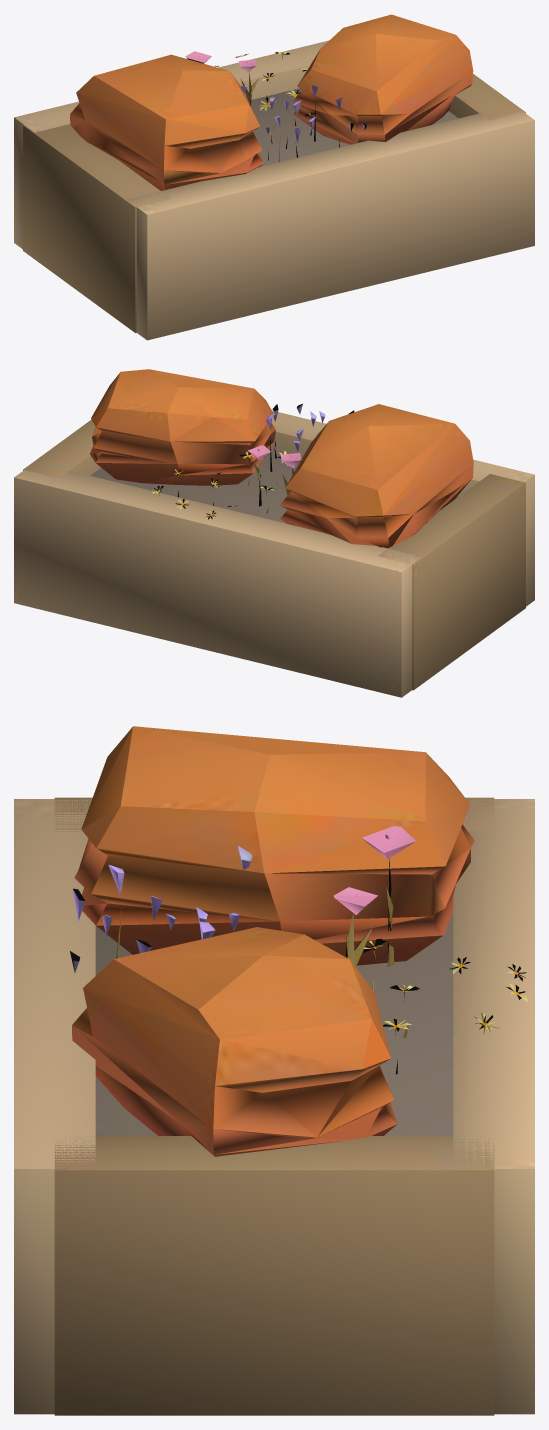
The model's file is plaza_planter_filled_low.glb.
The picture shows the model from 3 angles, top to bottom: view 1: azimuth 30°, elevation 25°; view 2: azimuth 150°, elevation 25°; view 3: azimuth 270°, elevation 25°; orthographic projection. The views are drawn at different scales.
Visible parts, largest first — view 1: plaza_planter_filled; view 2: plaza_planter_filled; view 3: plaza_planter_filled.
Part boxes in pixels (x1,y1,x2,y2): plaza_planter_filled: (14,14,534,340); plaza_planter_filled: (14,369,534,697); plaza_planter_filled: (14,726,534,1415).
Size of the model in its own units: 1.76 by 0.85 by 1.04.
Materials: 1 (1 with a texture image).
